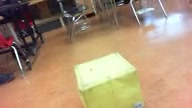cube: (74, 52, 145, 108)
